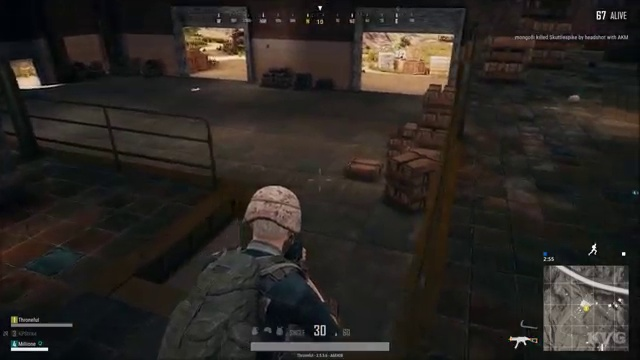Player: (170, 172, 367, 315)
